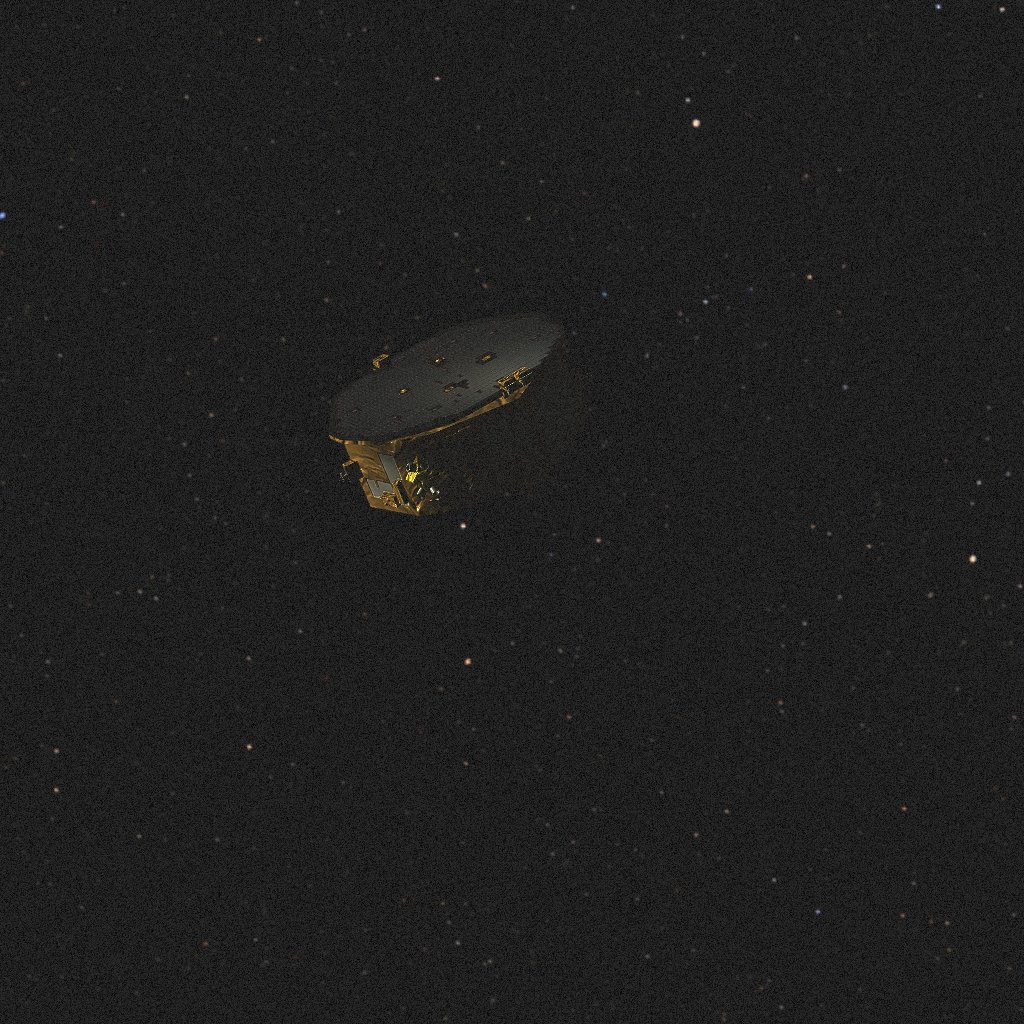lisa_pathfinder: (329, 311, 594, 516)
